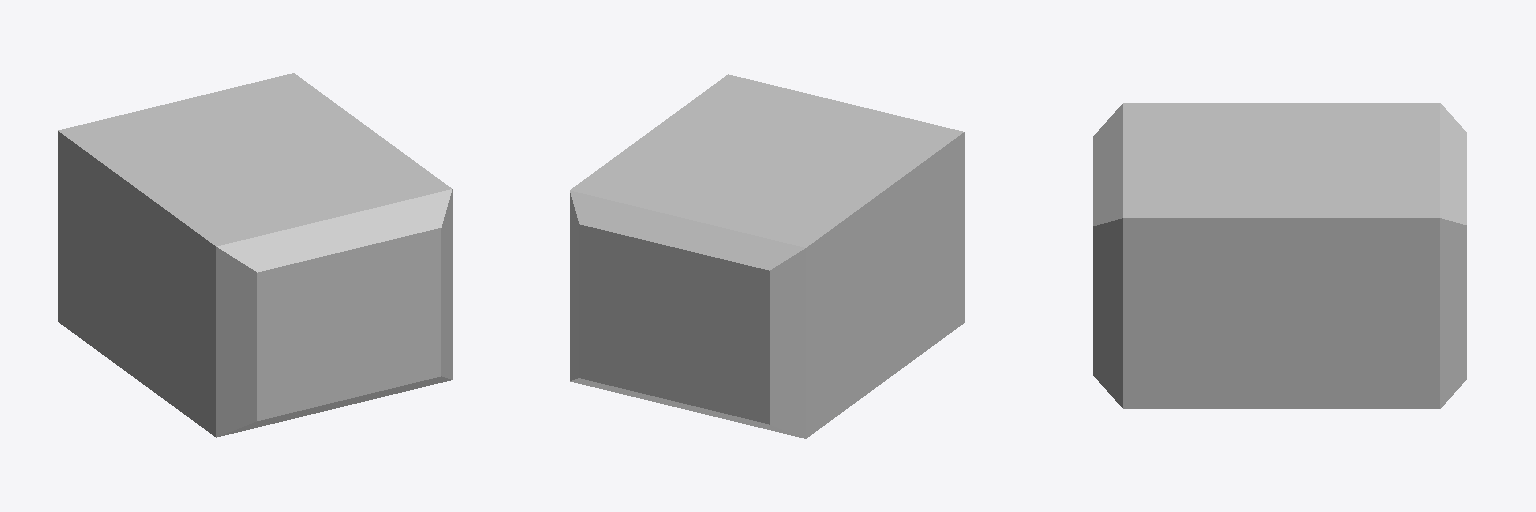
Rendered from milabody.obj.
3 renders of one model, left to right at view 1: azimuth 30°, elevation 25°; view 2: azimuth 150°, elevation 25°; view 3: azimuth 270°, elevation 25°, orthographic.
Visible parts, largest first — view 1: Cube; view 2: Cube; view 3: Cube.
Boxes of the visible parts, <box> form: Cube: <box>58,73,452,437</box>; Cube: <box>570,74,964,438</box>; Cube: <box>1093,103,1466,408</box>.
Size of the model in its own units: 2 by 1.54 by 2.74.